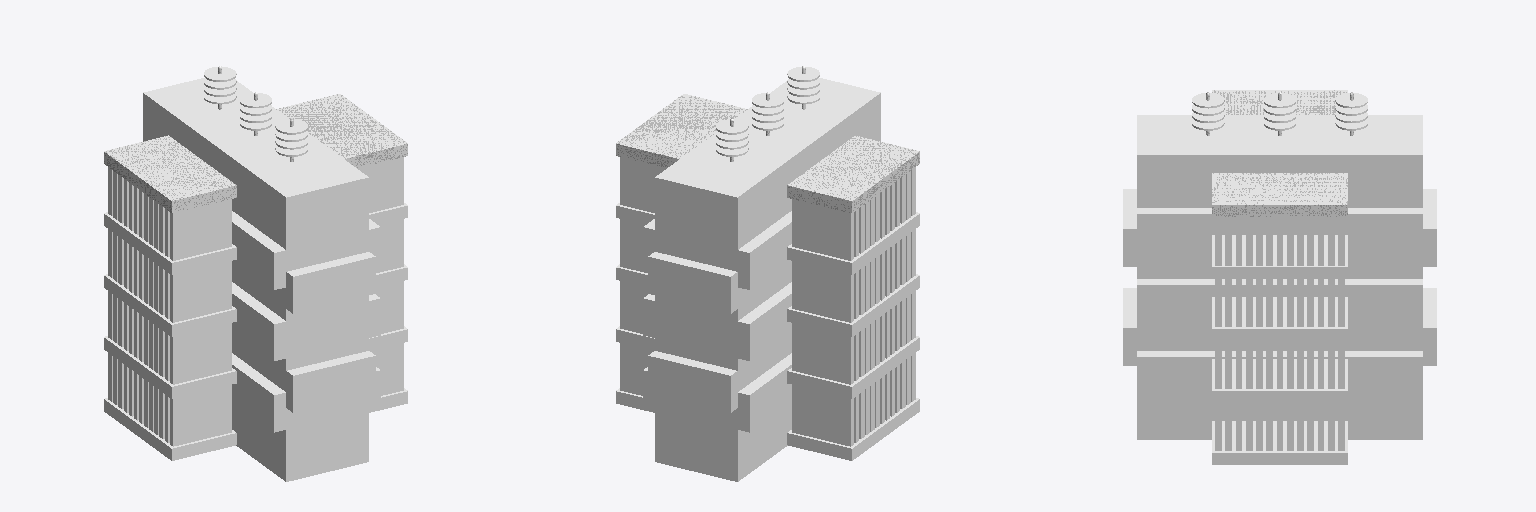
The model's file is SubStation.obj.
The picture shows the model from 3 angles: view 1: azimuth 30°, elevation 25°; view 2: azimuth 150°, elevation 25°; view 3: azimuth 270°, elevation 25°; orthographic projection.
Parts seen in each view (by area): view 1: group_0.001_ID11, group_0.043_ID263, group_0.060_ID367, group_0.178_ID649, group_0.170_ID601, group_0.055_ID337, group_0.184_ID685, group_0.167_ID583, group_0.176_ID637, group_0.013_ID83, group_0.166_ID577, group_0.190_ID721 (+4 smaller); view 2: group_0.001_ID11, group_0.043_ID263, group_0.060_ID367, group_0.009_ID59, group_0.014_ID89, group_0.002_ID17, group_0.199_ID775, group_0.167_ID583, group_0.176_ID637, group_0.013_ID83, group_0.166_ID577, group_0.186_ID697 (+4 smaller); view 3: group_0.001_ID11, group_0.060_ID367, group_0.198_ID769, group_0.053_ID325, group_0.035_ID215, group_0.148_ID469, group_0.043_ID263.
Part boxes in pixels (left/top/right/bottom): group_0.001_ID11: left=143, top=78, right=380, bottom=481; group_0.043_ID263: left=104, top=135, right=236, bottom=212; group_0.060_ID367: left=276, top=94, right=407, bottom=167; group_0.178_ID649: left=170, top=385, right=231, bottom=446; group_0.170_ID601: left=170, top=261, right=231, bottom=322; group_0.055_ID337: left=170, top=199, right=231, bottom=260; group_0.184_ID685: left=170, top=323, right=231, bottom=384; group_0.167_ID583: left=104, top=274, right=236, bottom=336; group_0.176_ID637: left=104, top=336, right=236, bottom=398; group_0.013_ID83: left=104, top=212, right=236, bottom=274; group_0.166_ID577: left=104, top=398, right=236, bottom=460; group_0.190_ID721: left=357, top=157, right=403, bottom=212; group_0.001_ID11: left=643, top=78, right=880, bottom=481; group_0.043_ID263: left=787, top=135, right=919, bottom=212; group_0.060_ID367: left=616, top=94, right=747, bottom=167; group_0.009_ID59: left=792, top=385, right=853, bottom=446; group_0.014_ID89: left=792, top=261, right=853, bottom=322; group_0.002_ID17: left=792, top=199, right=853, bottom=260; group_0.199_ID775: left=792, top=323, right=853, bottom=384; group_0.167_ID583: left=787, top=274, right=919, bottom=336; group_0.176_ID637: left=787, top=336, right=919, bottom=398; group_0.013_ID83: left=787, top=212, right=919, bottom=274; group_0.166_ID577: left=787, top=398, right=919, bottom=460; group_0.186_ID697: left=620, top=157, right=666, bottom=212; group_0.001_ID11: left=1123, top=115, right=1436, bottom=439; group_0.060_ID367: left=1212, top=173, right=1347, bottom=216; group_0.198_ID769: left=1212, top=421, right=1347, bottom=464; group_0.053_ID325: left=1212, top=359, right=1347, bottom=402; group_0.035_ID215: left=1212, top=297, right=1347, bottom=340; group_0.148_ID469: left=1212, top=235, right=1347, bottom=278; group_0.043_ID263: left=1212, top=90, right=1347, bottom=114.
Size of the model in its own units: 4 by 5.29 by 4.6.